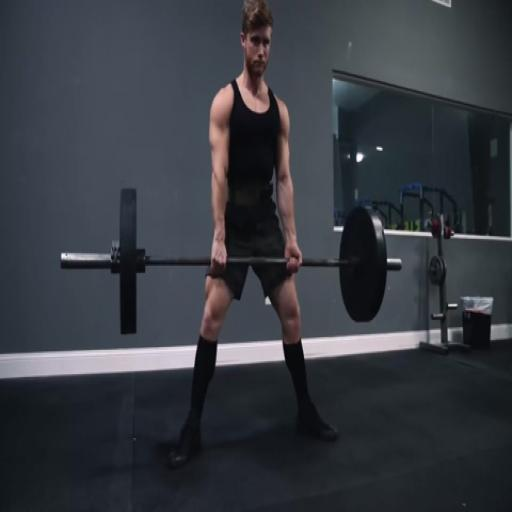exercise: (166, 0, 342, 472)
